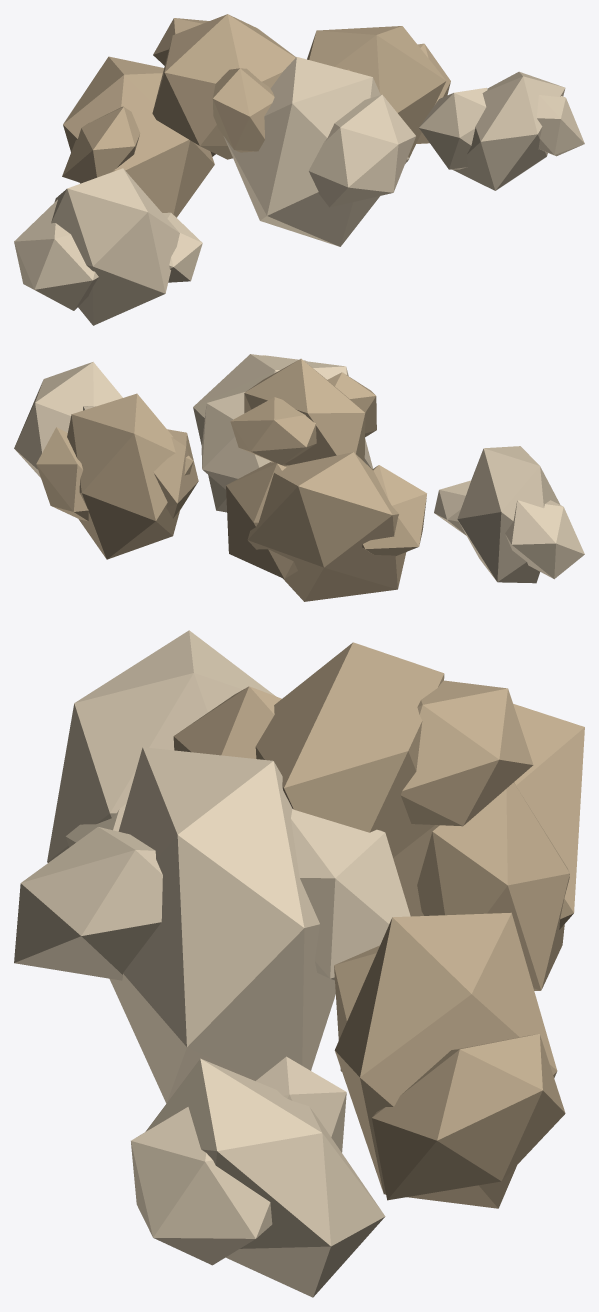
File: fx_dust_construction_site.glb
3 views of the same model, one above another, from view 1: azimuth 30°, elevation 25°; view 2: azimuth 150°, elevation 25°; view 3: azimuth 270°, elevation 25° (orthographic). The views are drawn at different scales.
Visible parts, largest first — view 1: fx_dust_construction_site_dust_cream, fx_dust_construction_site_dust_sand; view 2: fx_dust_construction_site_dust_sand, fx_dust_construction_site_dust_cream; view 3: fx_dust_construction_site_dust_cream, fx_dust_construction_site_dust_sand.
Boxes of the visible parts, <box> form: fx_dust_construction_site_dust_cream: <box>14,57,584,325</box>; fx_dust_construction_site_dust_sand: <box>62,14,450,217</box>; fx_dust_construction_site_dust_sand: <box>36,358,426,601</box>; fx_dust_construction_site_dust_cream: <box>14,354,584,583</box>; fx_dust_construction_site_dust_cream: <box>14,630,410,1297</box>; fx_dust_construction_site_dust_sand: <box>173,642,584,1208</box>.
Bounding box in the file's own units: 1.42 × 0.5533 × 0.6685.
